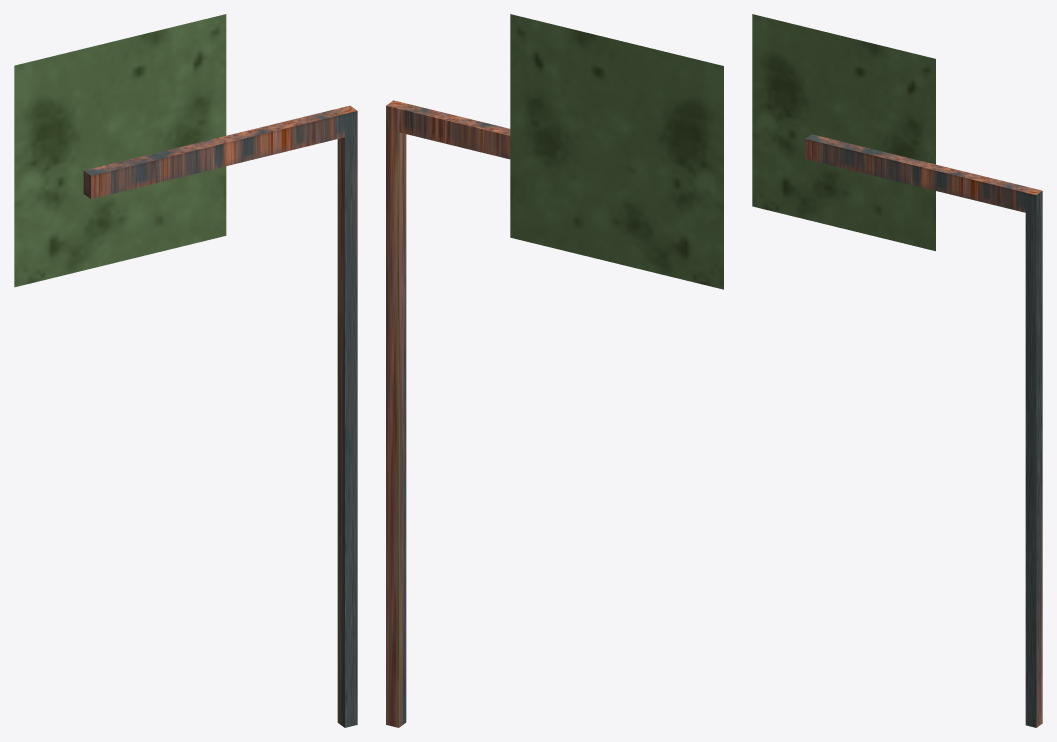
Rendered from Sign_TurnLeft.fbx.
The picture shows the model from 3 angles, left to right: view 1: azimuth 30°, elevation 25°; view 2: azimuth 150°, elevation 25°; view 3: azimuth 330°, elevation 25°; orthographic projection. The views are drawn at different scales.
Visible parts, largest first — view 1: Sign_TurnLeft, Sign_TurnLeft.001; view 2: Sign_TurnLeft, Sign_TurnLeft.001; view 3: Sign_TurnLeft, Sign_TurnLeft.001.
Part boxes in pixels (x1,y1,x2,y2): Sign_TurnLeft: (14,14,226,287); Sign_TurnLeft.001: (83,105,357,727); Sign_TurnLeft: (510,14,723,289); Sign_TurnLeft.001: (386,100,510,727); Sign_TurnLeft: (752,14,935,251); Sign_TurnLeft.001: (805,134,1042,727).
Size of the model in its own units: 130 by 273 by 5.19.
1 material, 1 textured.
